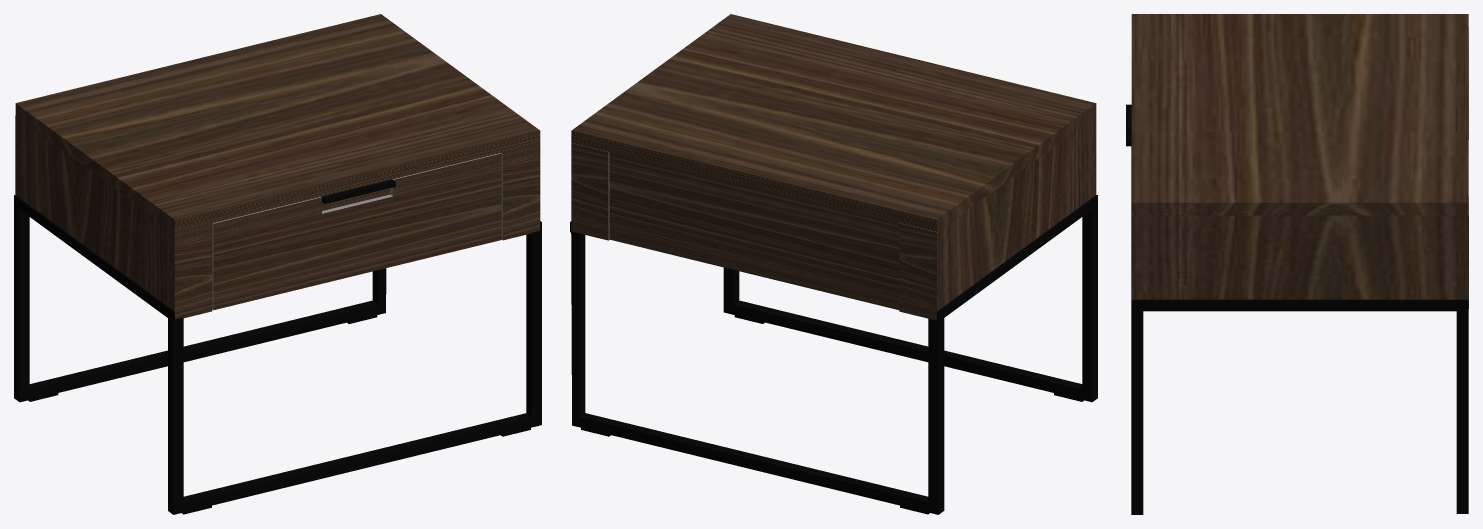
File: desk05.obj
The picture shows the model from 3 angles, left to right: view 1: azimuth 30°, elevation 25°; view 2: azimuth 150°, elevation 25°; view 3: azimuth 270°, elevation 25°; orthographic projection. The views are drawn at different scales.
Visible parts, largest first — view 1: Object.9, Object.12, Object.4, Object.10, Object.8, Object.6; view 2: Object.9, Object.11, Object.4, Object.10, Object.8; view 3: Object.9, Object.8, Object.4.
Boxes of the visible parts, x1,y1,x2,y2 form: Object.9: [15, 14, 540, 232]; Object.12: [212, 153, 501, 310]; Object.4: [14, 195, 541, 514]; Object.10: [15, 115, 212, 319]; Object.8: [501, 143, 540, 240]; Object.6: [321, 179, 395, 203]; Object.9: [571, 14, 1096, 231]; Object.11: [609, 152, 899, 309]; Object.4: [570, 195, 1097, 514]; Object.10: [899, 116, 1096, 320]; Object.8: [571, 143, 609, 240]; Object.9: [1131, 14, 1468, 215]; Object.8: [1131, 196, 1468, 308]; Object.4: [1131, 146, 1468, 514].
Size of the model in its own units: 128 by 98.4 by 97.4.
13 materials, 1 textured.
